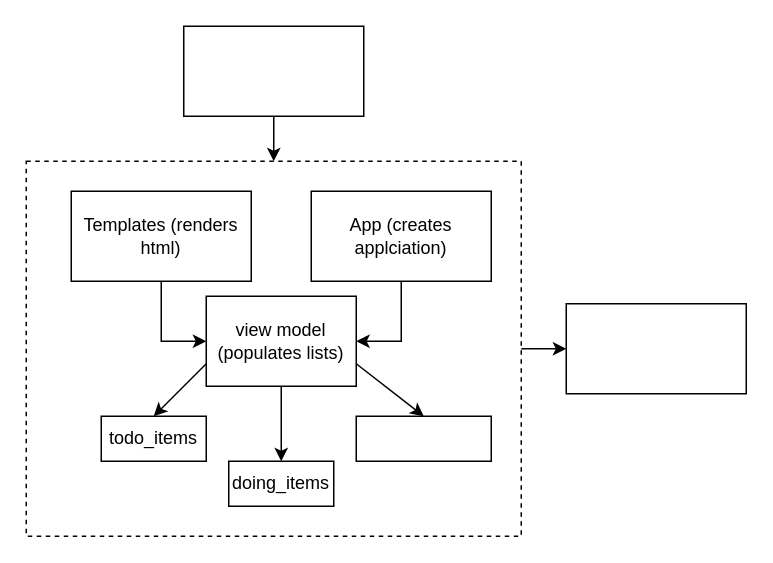
This 773x563 diagram has some shape labels left out. Here are the shapes that lost their labels. From the top down, the centre of each, then its label:
At (x=273, y=70): "WebPage provides entrypoint".
At (x=655, y=348): "Trello (stores data)".
At (x=423, y=438): "complete_iitems".
